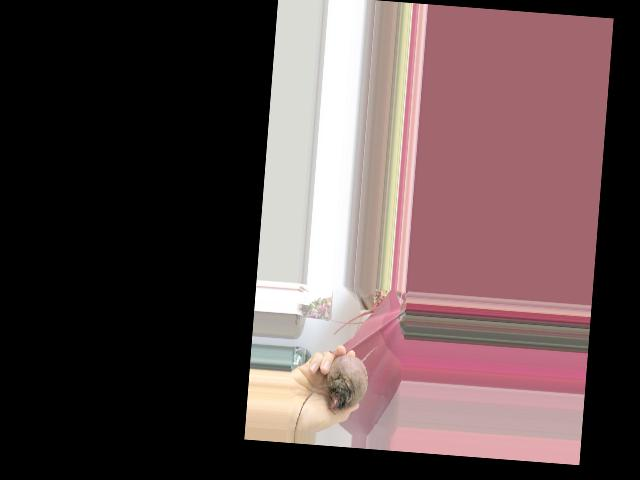beet: (294, 340, 377, 435)
